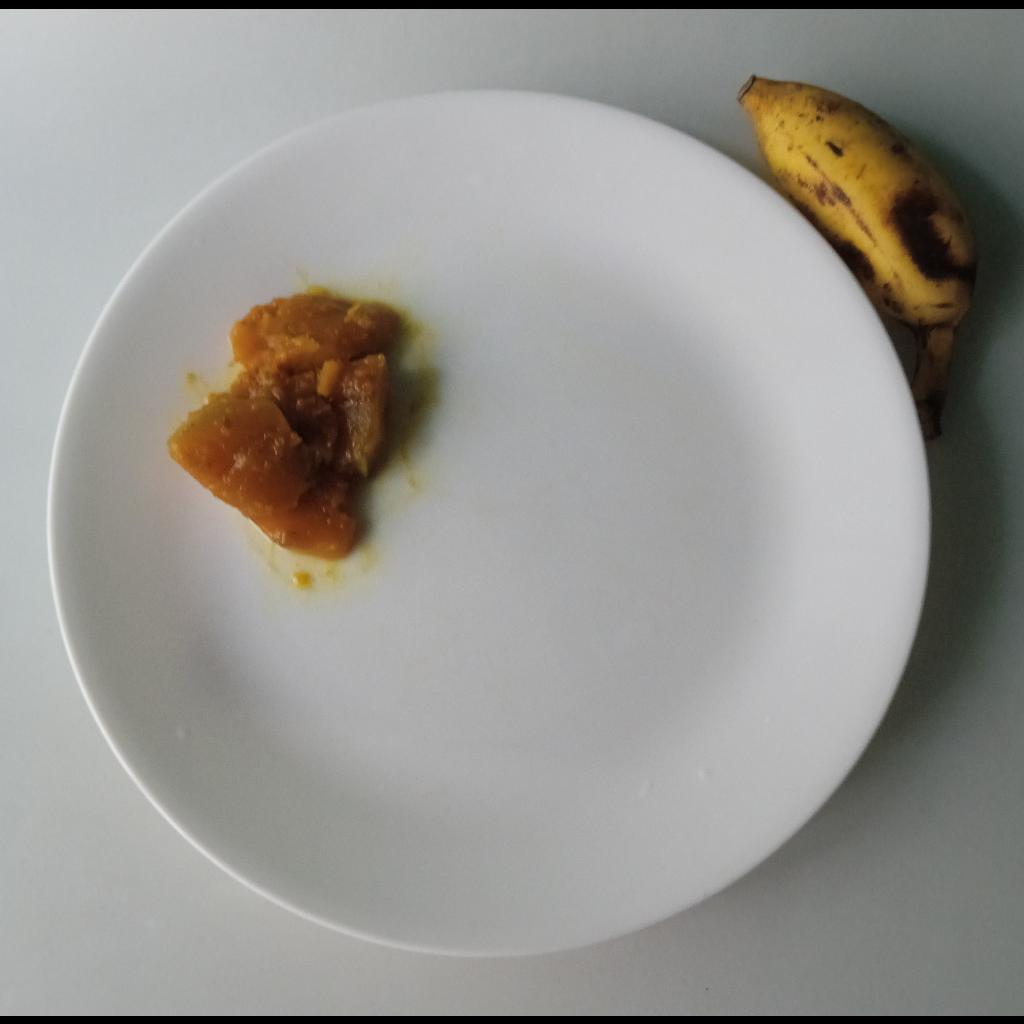banana: (733, 69, 975, 432)
kumra-vaji: (162, 287, 400, 558)
